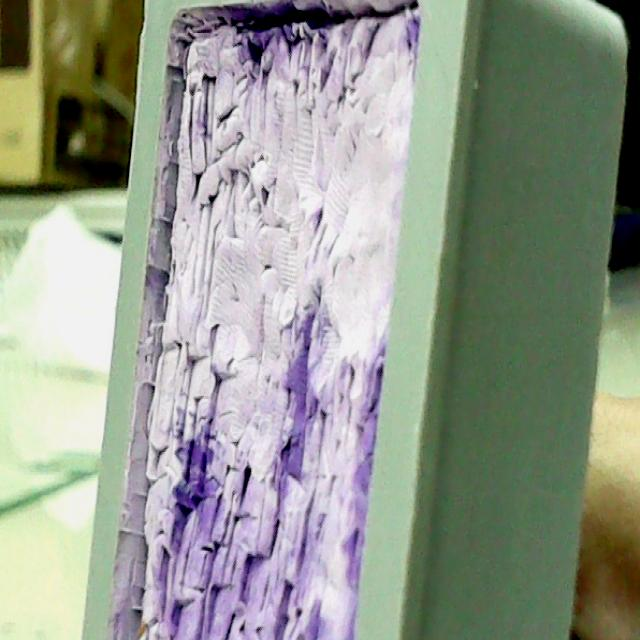block: (74, 0, 627, 640)
